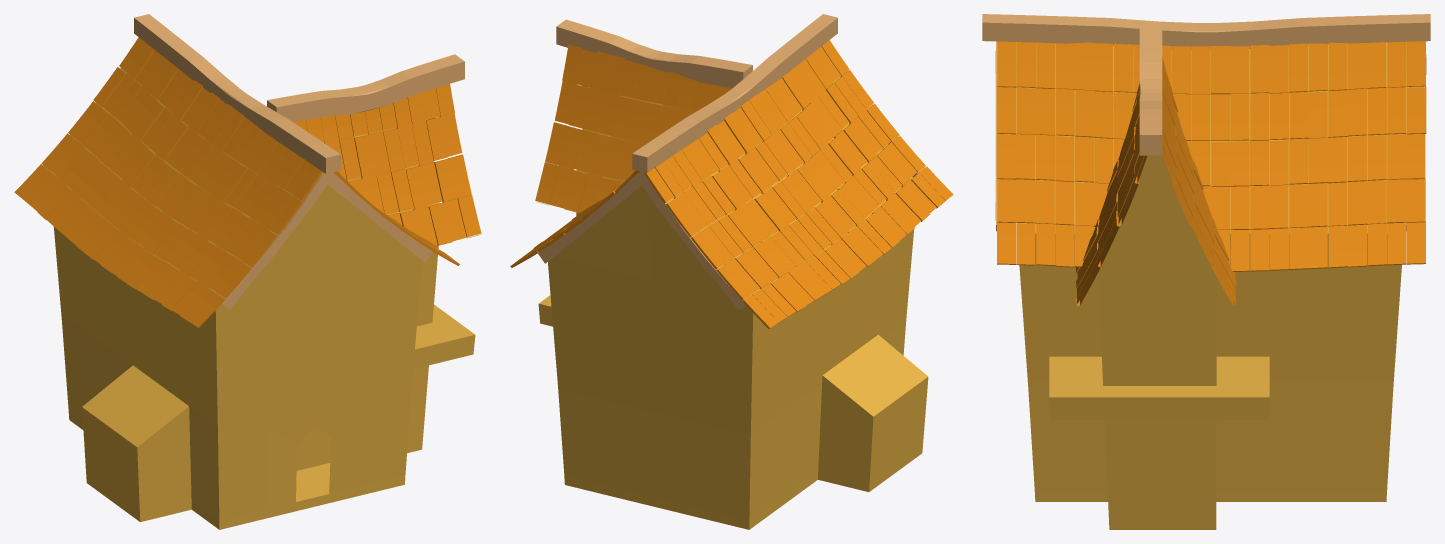
3 views of the same model, side by side, from view 1: azimuth 30°, elevation 25°; view 2: azimuth 150°, elevation 25°; view 3: azimuth 270°, elevation 25° (orthographic). The views are drawn at different scales.
Visible parts, largest first — view 1: 立方体.008; view 2: 立方体.008; view 3: 立方体.008.
Part boxes in pixels (<box>): 立方体.008: <box>14,14,481,529</box>; 立方体.008: <box>510,14,953,529</box>; 立方体.008: <box>982,14,1430,529</box>.
Size of the model in its own units: 594 by 619 by 629.
